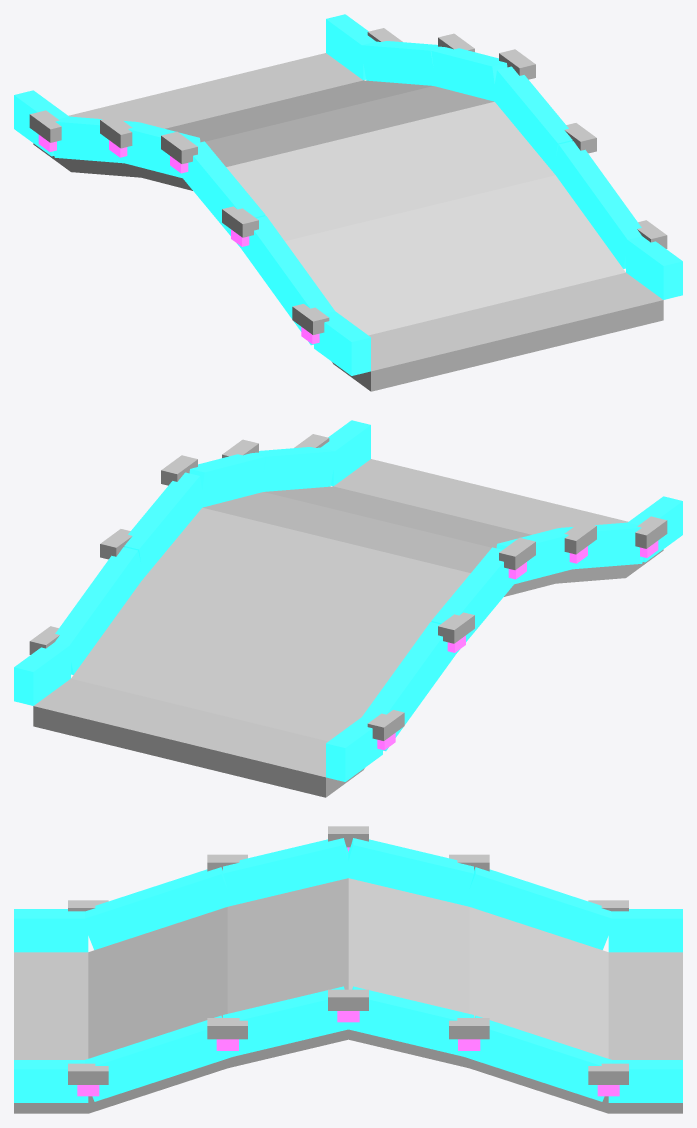
3 views of the same model, one above another, from view 1: azimuth 30°, elevation 25°; view 2: azimuth 150°, elevation 25°; view 3: azimuth 270°, elevation 25° (orthographic).
Parts seen in each view (by area): view 1: Neon_BankRamp_Showcase; view 2: Neon_BankRamp_Showcase; view 3: Neon_BankRamp_Showcase.
Part boxes in pixels (left/top/right/bottom): Neon_BankRamp_Showcase: left=14, top=14, right=682, bottom=391; Neon_BankRamp_Showcase: left=14, top=420, right=682, bottom=797; Neon_BankRamp_Showcase: left=14, top=826, right=682, bottom=1113.
Bounding box in the file's own units: 2.18 × 0.78 × 3.6.
